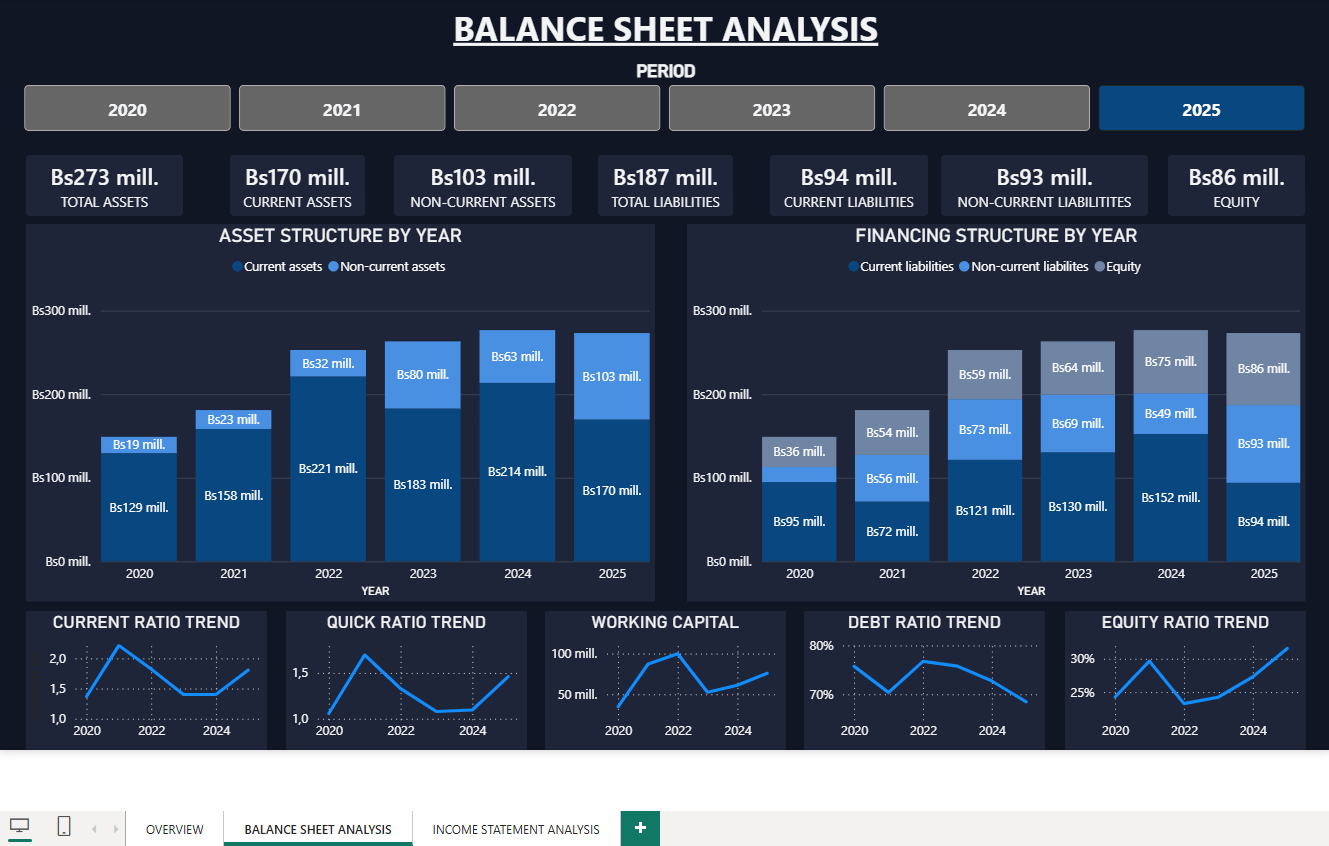

What the dashboard file says about the page in this screenshot:
{"tool":"powerbi","page":{"name":"BALANCE SHEET ANALYSIS","canvas":[1280,720],"ordinal":1},"visuals":[{"type":"cardVisual","fields":{"Data":["MEDIDAS.Total Activo Corriente"]},"box":[185,141.9,182.2,83.4],"z":0},{"type":"cardVisual","fields":{"Data":["MEDIDAS.Total Activo no Corriente"]},"box":[367.2,141.9,185,83.4],"z":1000},{"type":"cardVisual","fields":{"Data":["MEDIDAS.Current liabilities"]},"box":[727.7,141.9,178.3,83.4],"z":2000},{"type":"cardVisual","fields":{"Data":["MEDIDAS.Non-current liabilites"]},"box":[906.1,141.9,199.4,83.4],"z":3000},{"type":"cardVisual","fields":{"Data":["MEDIDAS.Equity"]},"box":[1105.5,141.9,174.5,83.4],"z":4000},{"type":"cardVisual","fields":{"Data":["MEDIDAS.Total Activo"]},"box":[0,141.9,185,83.4],"z":5000},{"type":"cardVisual","fields":{"Data":["MEDIDAS.Total pasivo"]},"box":[552.3,141.9,182.2,83.4],"z":6000},{"type":"columnChart","title":"FINANCING STRUCTURE BY YEAR","fields":{"Category":["DimFecha.Año"],"Y":["MEDIDAS.Current liabilities","MEDIDAS.Non-current liabilites","MEDIDAS.Equity"]},"box":[646.2,243.5,625.1,334.6],"z":7000},{"type":"columnChart","title":"ASSET STRUCTURE BY YEAR","fields":{"Category":["DimFecha.Año"],"Y":["MEDIDAS.Total Activo Corriente","MEDIDAS.Total Activo no Corriente"]},"box":[6.7,243.5,625.1,334.6],"z":8000},{"type":"advancedSlicerVisual","title":"PERIOD","fields":{"Values":["DimFecha.Año"]},"box":[0,58.8,1280,73.5],"z":9000},{"type":"textbox","box":[0,0,418,58.5],"z":10000},{"type":"lineChart","title":"CURRENT RATIO TREND","fields":{"Category":["DimFecha.Año"],"Y":["DimCategoria.CURRENT RATIO TREND"]},"box":[26.8,586.8,231.1,133.3],"z":11000},{"type":"lineChart","title":"QUICK RATIO TREND","fields":{"Category":["DimFecha.Año"],"Y":["DimCategoria.QUICK RATIO TREND"]},"box":[276.1,586.8,231.1,133.3],"z":12000},{"type":"lineChart","title":"WORKING CAPITAL","fields":{"Category":["DimFecha.Año"],"Y":["MEDIDAS.Working capital"]},"box":[524.5,586.8,231.1,133.3],"z":13000},{"type":"lineChart","title":"DEBT RATIO TREND","fields":{"Category":["DimFecha.Año"],"Y":["DimCategoria.DEBT RATIO TREND"]},"box":[772.8,586.8,231.1,133.3],"z":14000},{"type":"lineChart","title":"EQUITY RATIO TREND","fields":{"Category":["DimFecha.Año"],"Y":["DimCategoria.EQUITY RATIO TREND"]},"box":[1023,586.8,231.1,133.3],"z":15000},{"type":"pageNavigator","box":[711.4,4.8,560.9,49.9],"z":16000}]}

Visuals, with their boxes on the page's 1280x720 design canvas (x1, y1, x2, y2). These are canvas units, not pixel positions in the 1329x846 screenshot, which may show the page scaled, cropped or inside an application window:
cardVisual - MEDIDAS.Total Activo Corriente: locate(185, 142, 367, 225)
cardVisual - MEDIDAS.Total Activo no Corriente: locate(367, 142, 552, 225)
cardVisual - MEDIDAS.Current liabilities: locate(728, 142, 906, 225)
cardVisual - MEDIDAS.Non-current liabilites: locate(906, 142, 1106, 225)
cardVisual - MEDIDAS.Equity: locate(1106, 142, 1280, 225)
cardVisual - MEDIDAS.Total Activo: locate(0, 142, 185, 225)
cardVisual - MEDIDAS.Total pasivo: locate(552, 142, 734, 225)
"FINANCING STRUCTURE BY YEAR" columnChart: locate(646, 244, 1271, 578)
"ASSET STRUCTURE BY YEAR" columnChart: locate(7, 244, 632, 578)
"PERIOD" advancedSlicerVisual: locate(0, 59, 1280, 132)
textbox: locate(0, 0, 418, 58)
"CURRENT RATIO TREND" lineChart: locate(27, 587, 258, 720)
"QUICK RATIO TREND" lineChart: locate(276, 587, 507, 720)
"WORKING CAPITAL" lineChart: locate(524, 587, 756, 720)
"DEBT RATIO TREND" lineChart: locate(773, 587, 1004, 720)
"EQUITY RATIO TREND" lineChart: locate(1023, 587, 1254, 720)
pageNavigator: locate(711, 5, 1272, 55)
